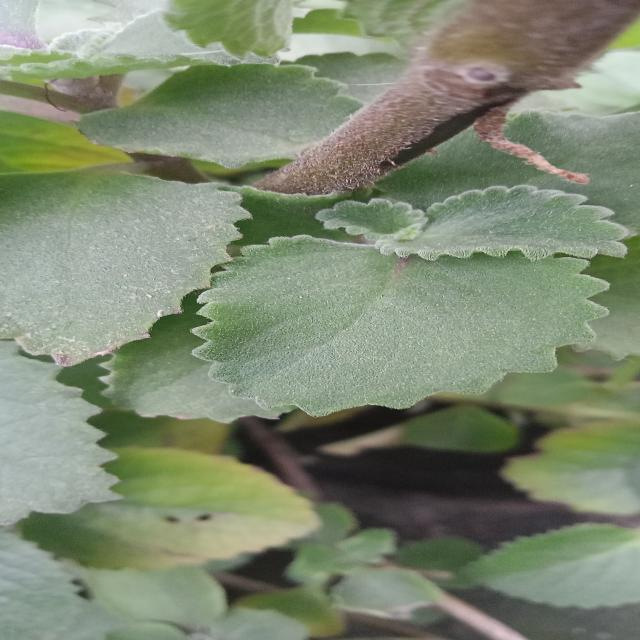Oregano: (144, 172, 640, 459)
